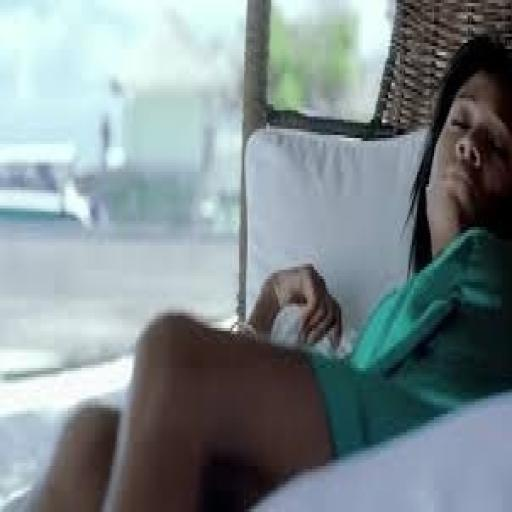sleeping: (22, 31, 510, 509)
